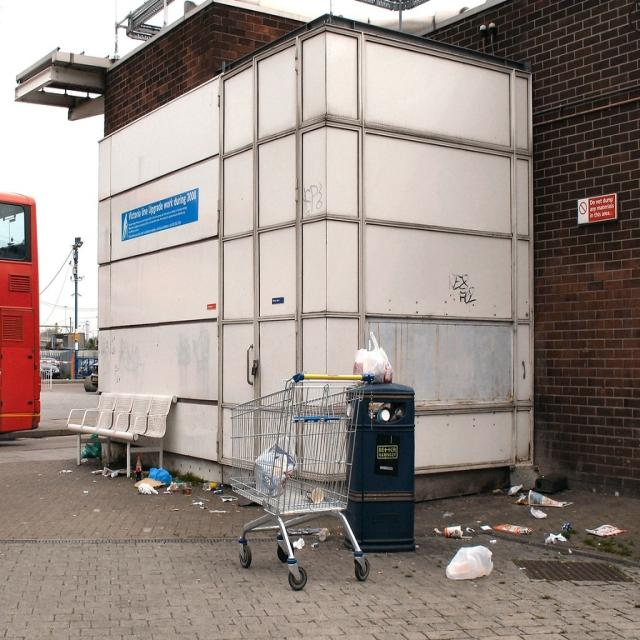Metal: (210, 348, 372, 609), (0, 171, 50, 446)
